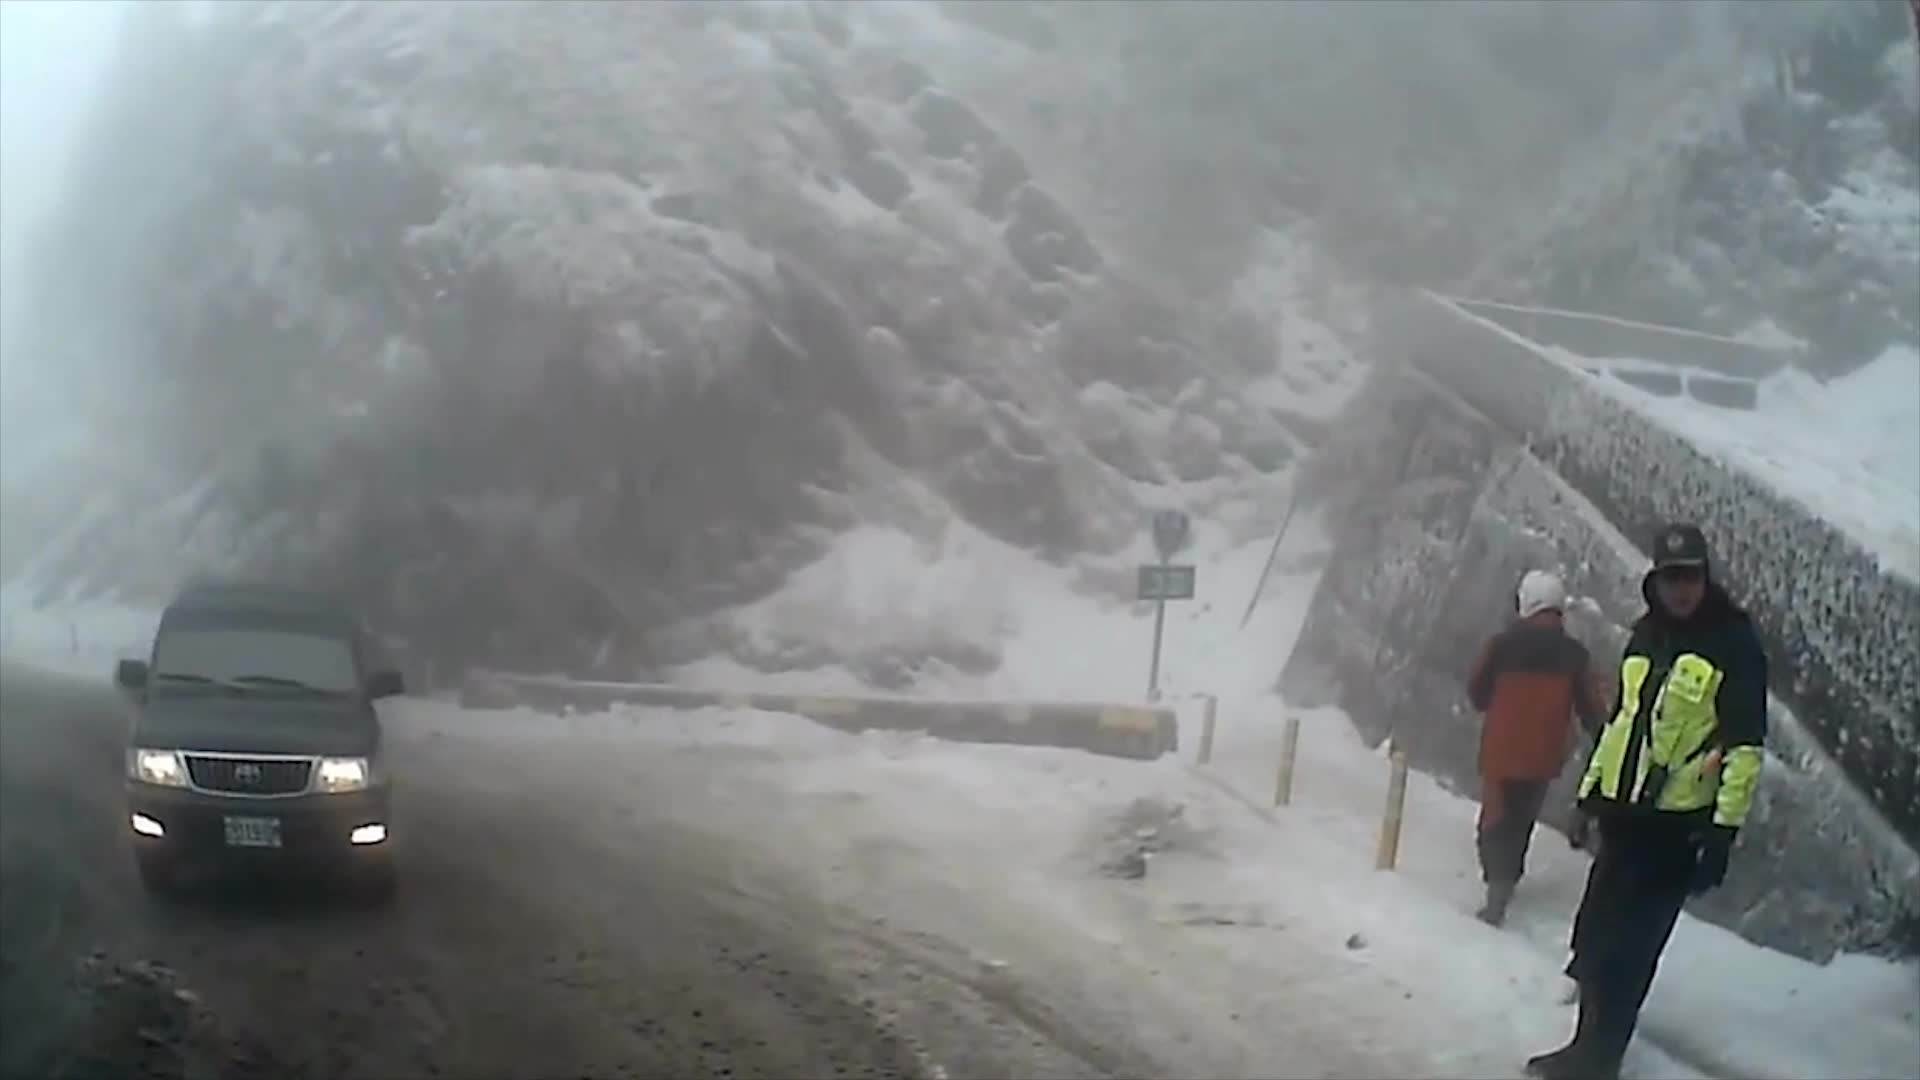pedestrian: (1535, 513, 1777, 1076), (1475, 559, 1612, 917)
vehicle: (117, 584, 406, 904)
